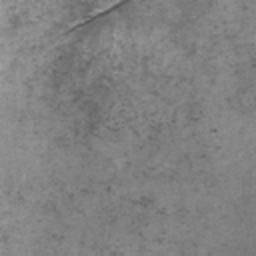Finishing roll printing: (56, 0, 131, 38)
